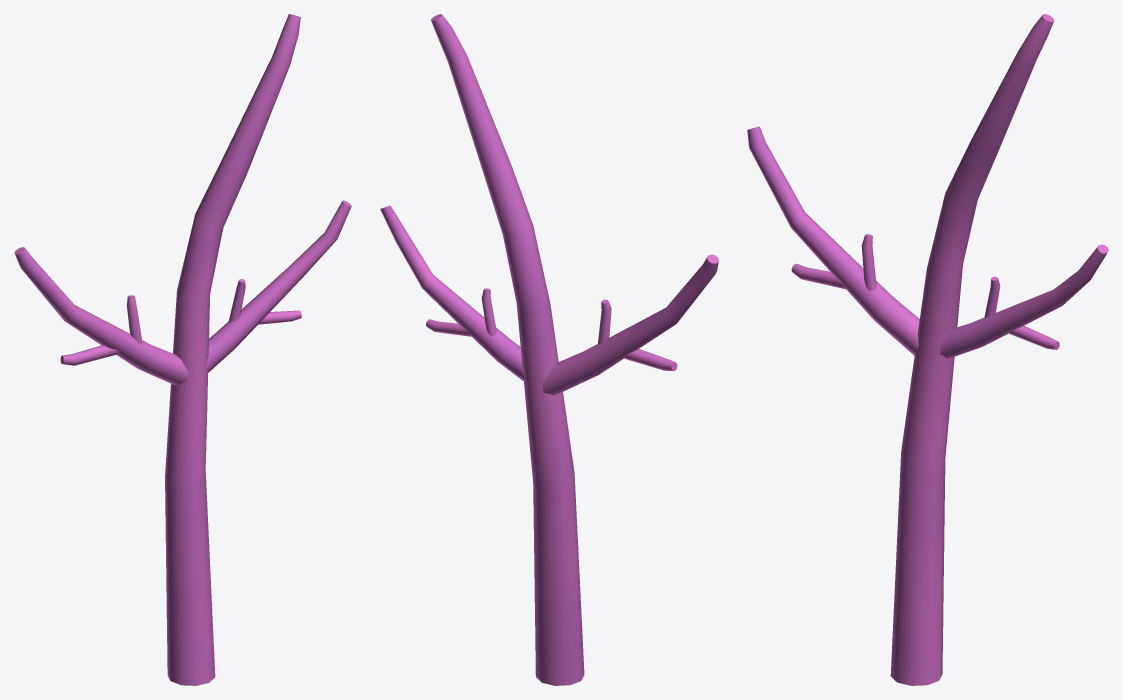
File: DeadTree_7.obj
3 views of the same model, side by side, from view 1: azimuth 30°, elevation 25°; view 2: azimuth 150°, elevation 25°; view 3: azimuth 330°, elevation 25° (orthographic). The views are drawn at different scales.
Parts seen in each view (by area): view 1: DeadTree_7_Cylinder.047; view 2: DeadTree_7_Cylinder.047; view 3: DeadTree_7_Cylinder.047.
Boxes of the visible parts, <box> form: DeadTree_7_Cylinder.047: <box>14,14,351,685</box>; DeadTree_7_Cylinder.047: <box>380,14,718,685</box>; DeadTree_7_Cylinder.047: <box>747,14,1108,685</box>.
Size of the model in its own units: 2.91 by 5.24 by 0.473.
Materials: 1 (1 with a texture image).
